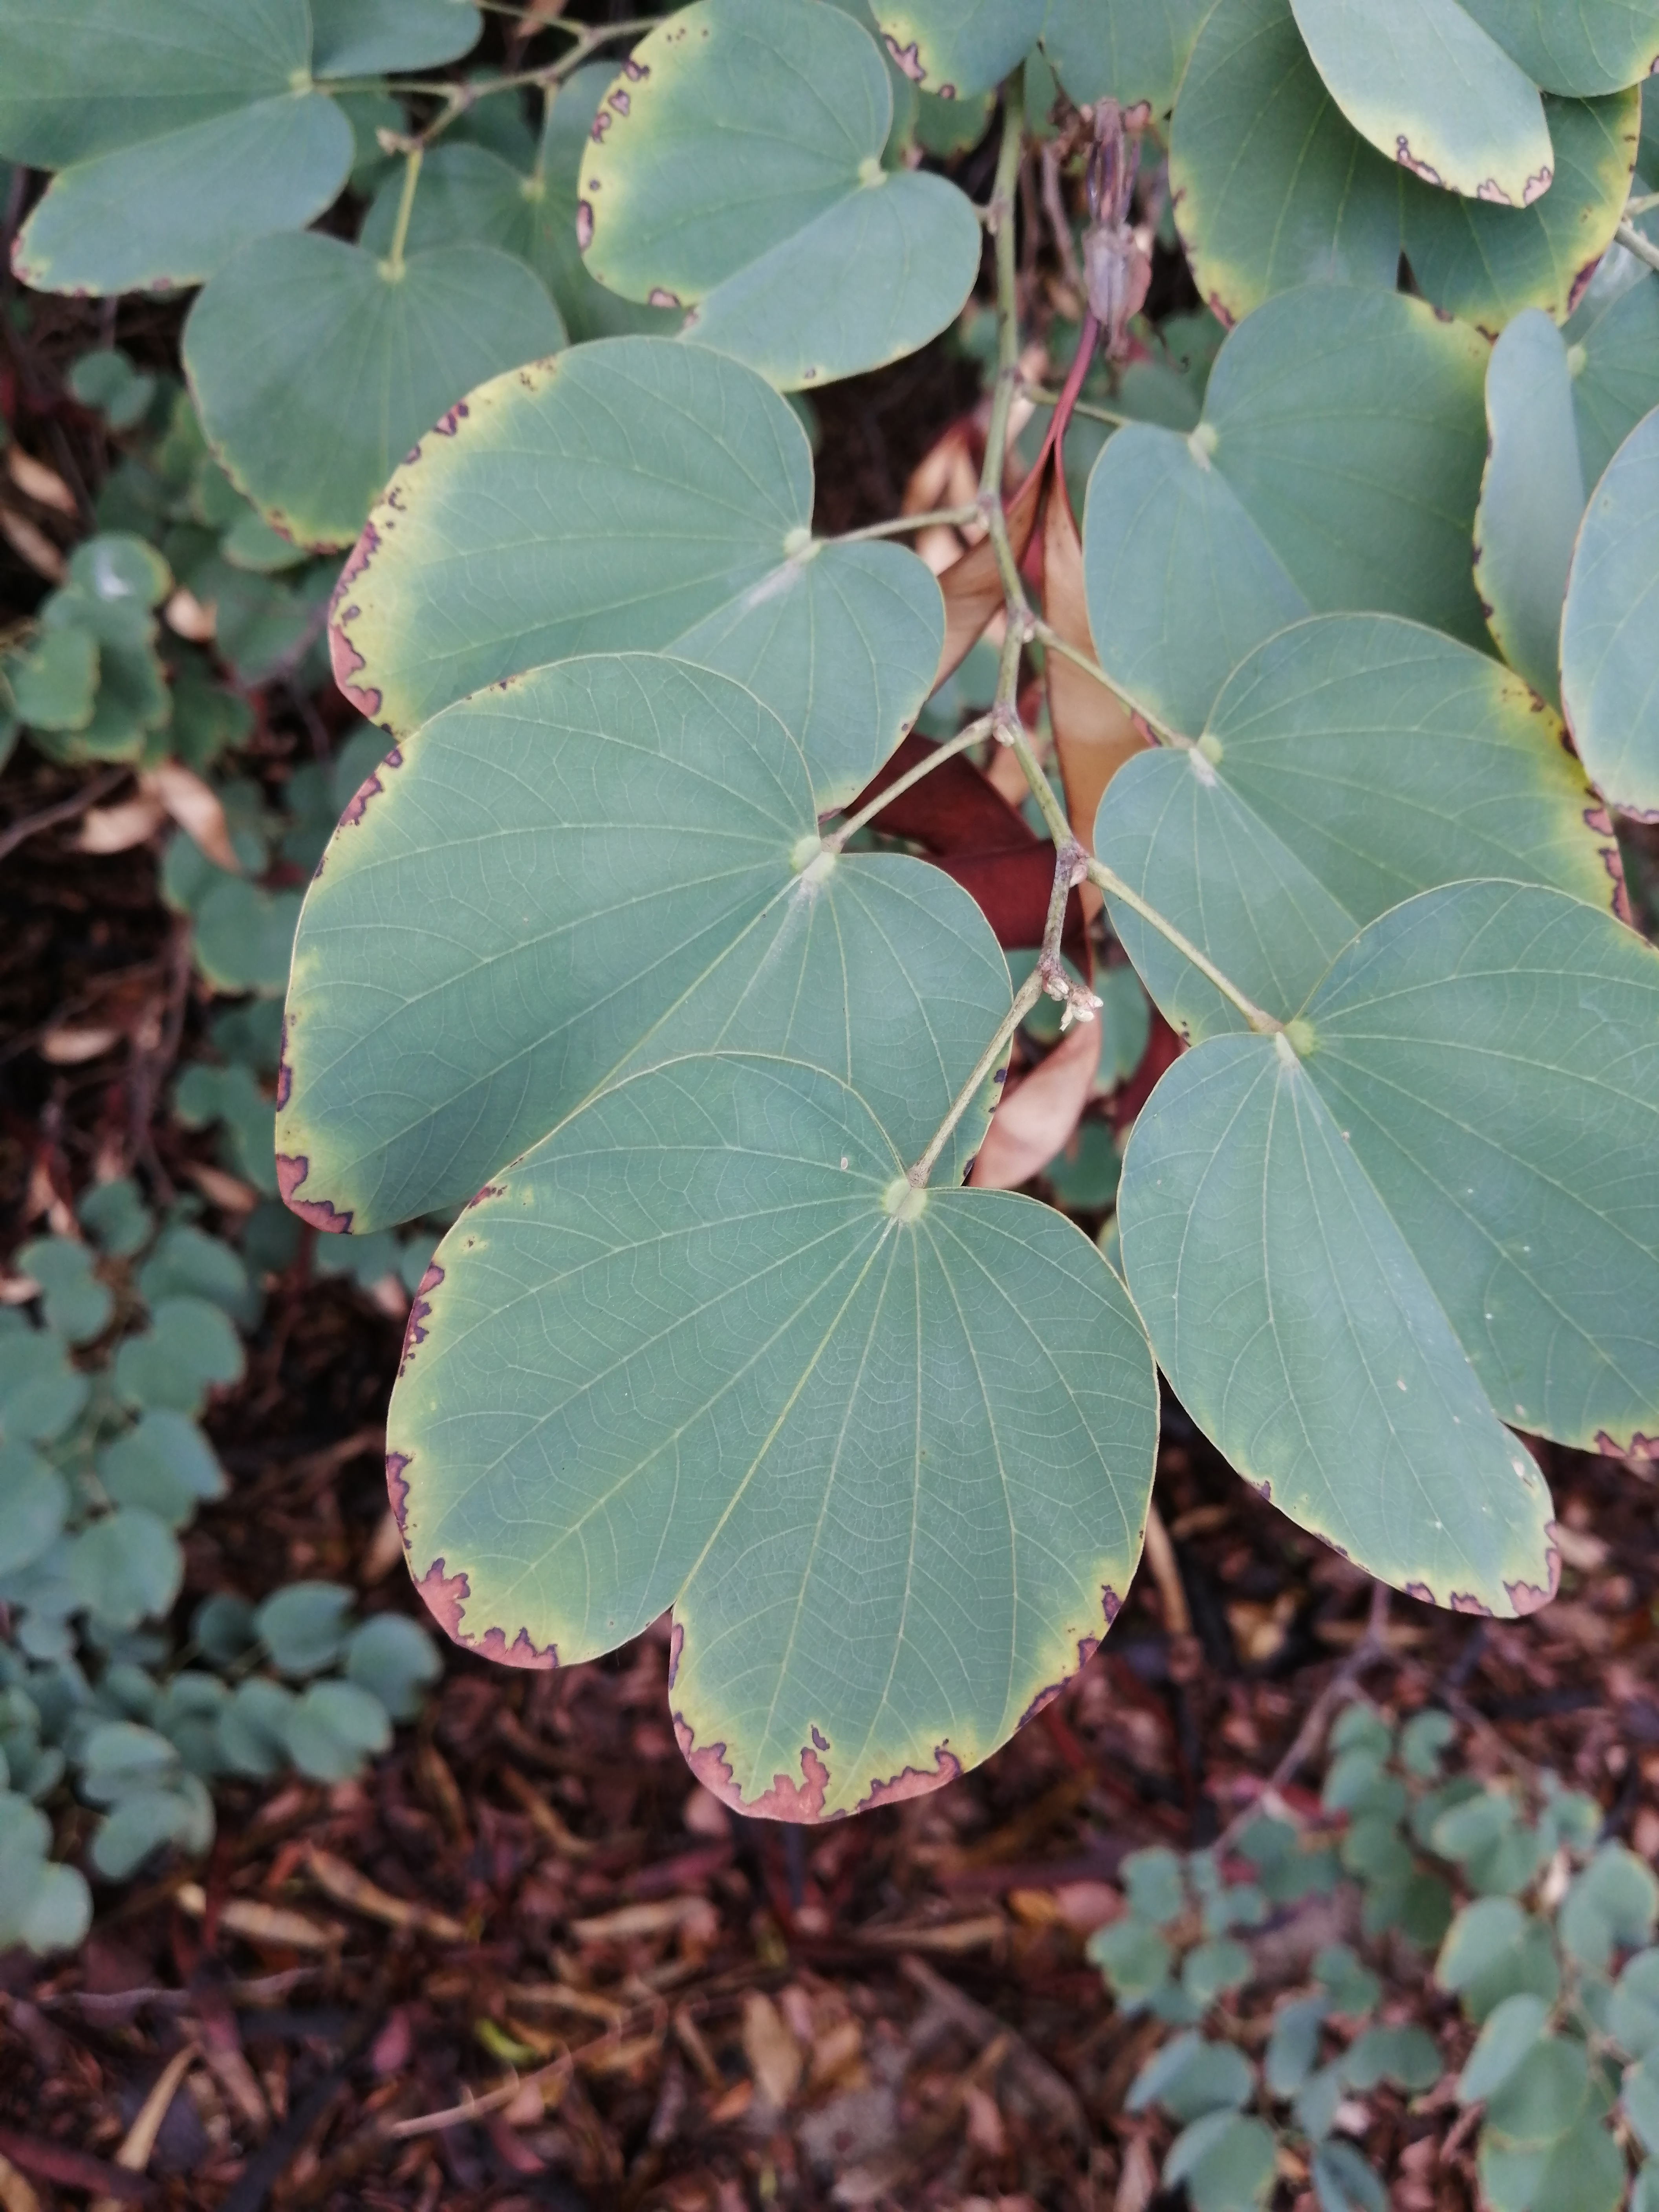nothealthy: (378, 1054, 1168, 1836), (267, 646, 1030, 1273), (1093, 885, 1659, 1635), (315, 326, 986, 831), (1100, 625, 1659, 1090)
